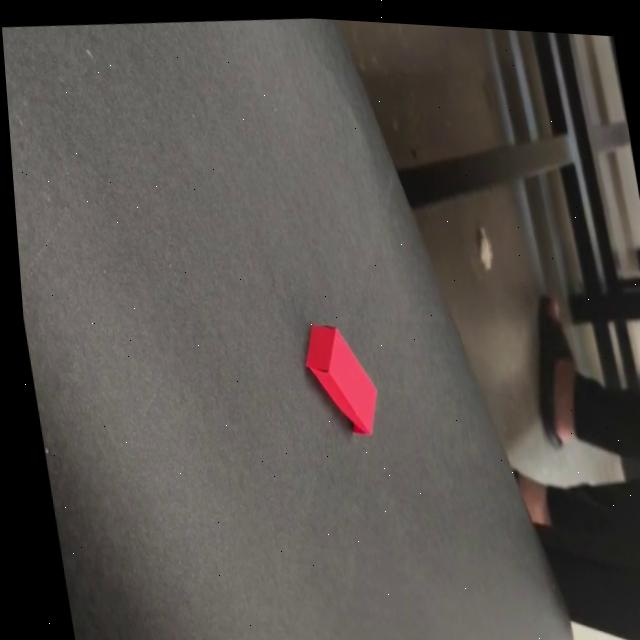red block: (297, 316, 386, 441)
